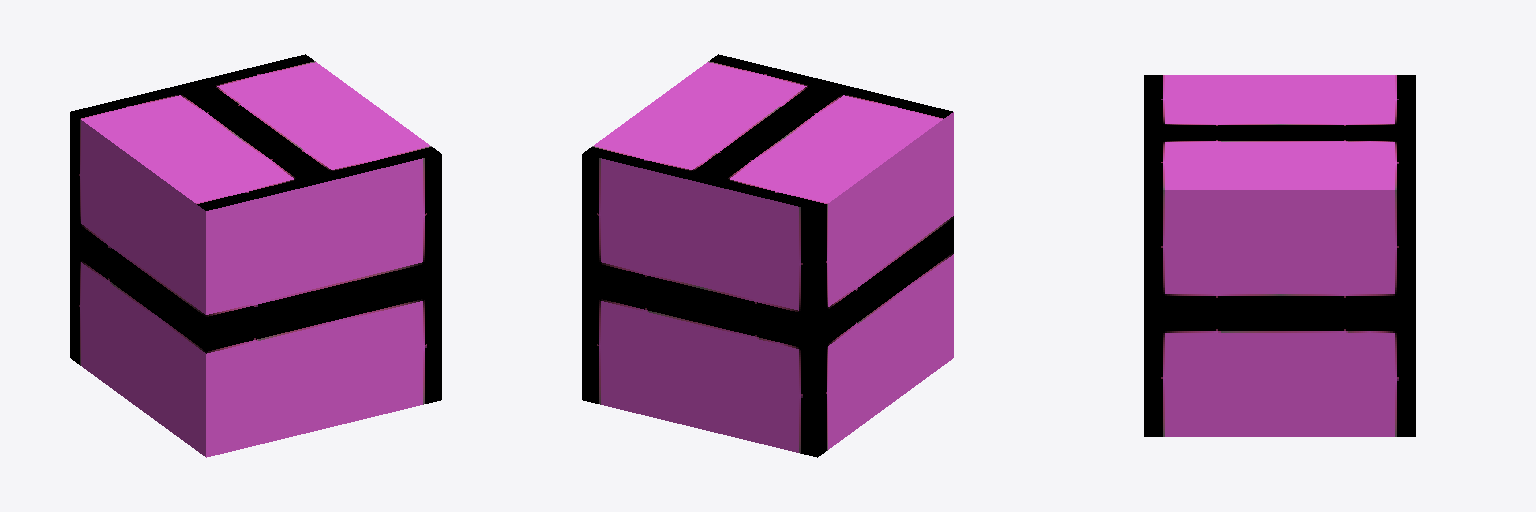
3 views of the same model, side by side, from view 1: azimuth 30°, elevation 25°; view 2: azimuth 150°, elevation 25°; view 3: azimuth 270°, elevation 25° (orthographic).
Parts seen in each view (by area): view 1: Cube; view 2: Cube; view 3: Cube.
Boxes of the visible parts, <box> form: Cube: <box>70,54,441,457</box>; Cube: <box>582,54,953,457</box>; Cube: <box>1144,75,1415,436</box>.
Bounding box in the file's own units: 2 × 2 × 2.
Materials: 1 (1 with a texture image).